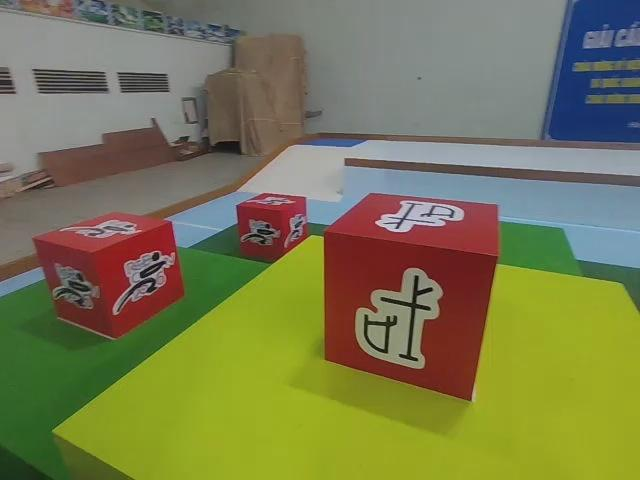R1: (31, 211, 188, 341), (237, 191, 309, 263)
R2 Real: (321, 191, 500, 405)
